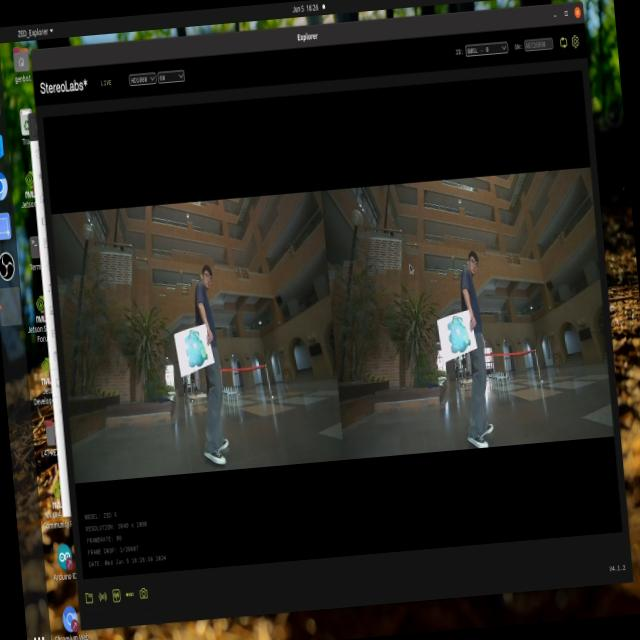green: (173, 322, 216, 370), (446, 313, 474, 355)
